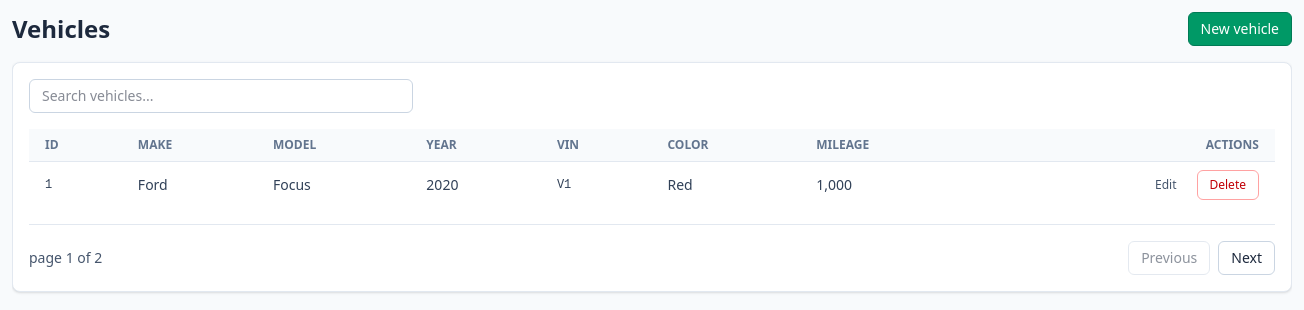
Scenario: VehicleListPage › T-14: VehicleListPage states › resets page to 1 when search query changes
The width and height of the screenshot is (1304, 310).
expect the text "page 1 of 2" is shown: met, box [29, 248, 102, 268]
Click the button "Next" at (1247, 258), box [1218, 241, 1275, 275]
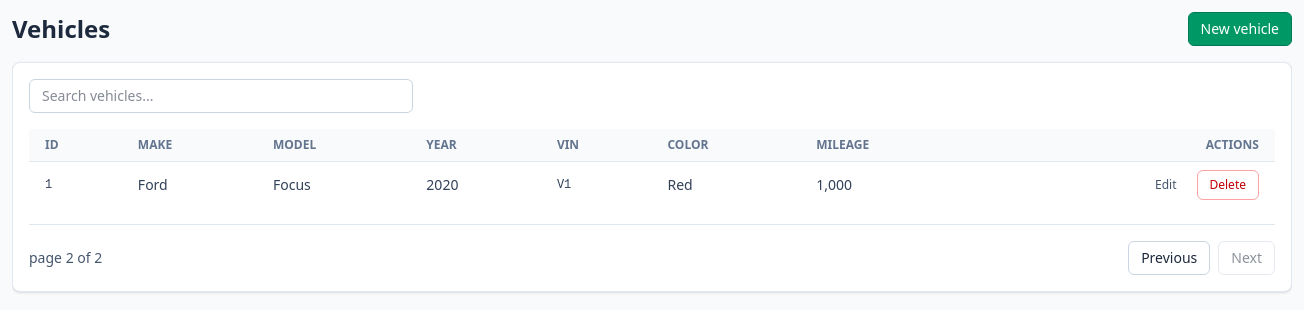
expect the text "page 2 of 2" is shown: met, box [29, 248, 102, 268]
Type "ford" into the field with placeholder "Search vehicles..." at (221, 96), box [29, 79, 413, 113]
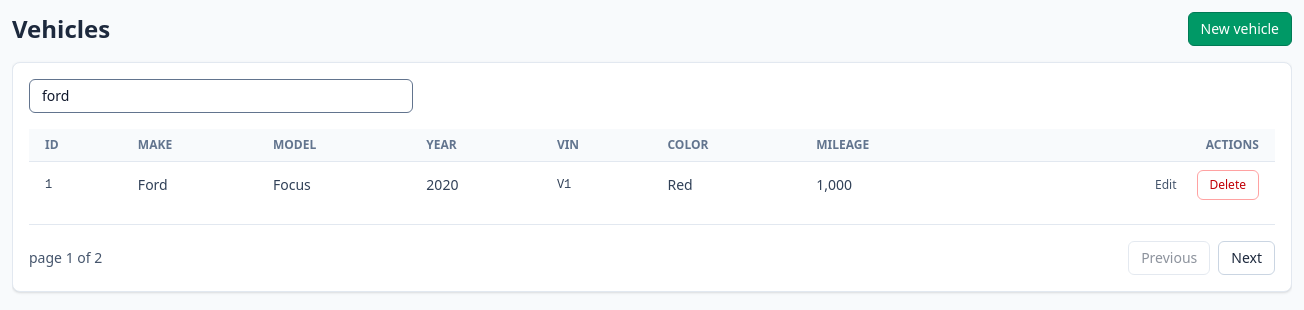
expect the text "page 1 of 2" is shown: met, box [29, 248, 102, 268]
